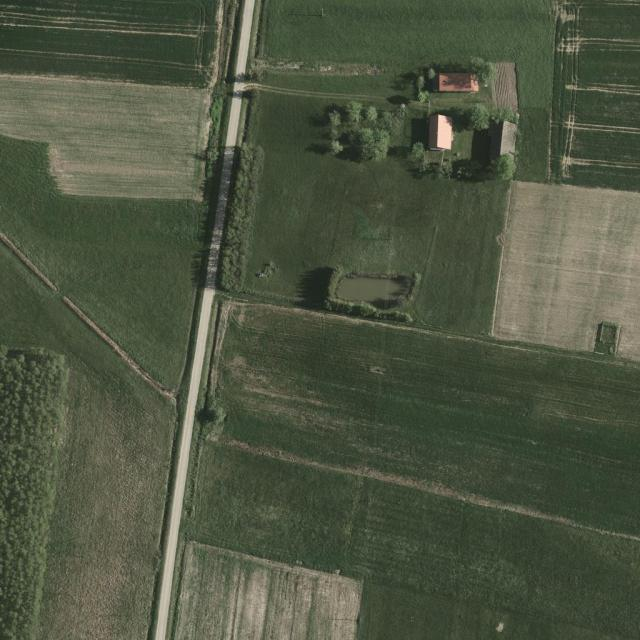building: (484, 121, 517, 169), (431, 70, 481, 93), (427, 115, 454, 155)
greenland: (318, 38, 524, 182)
